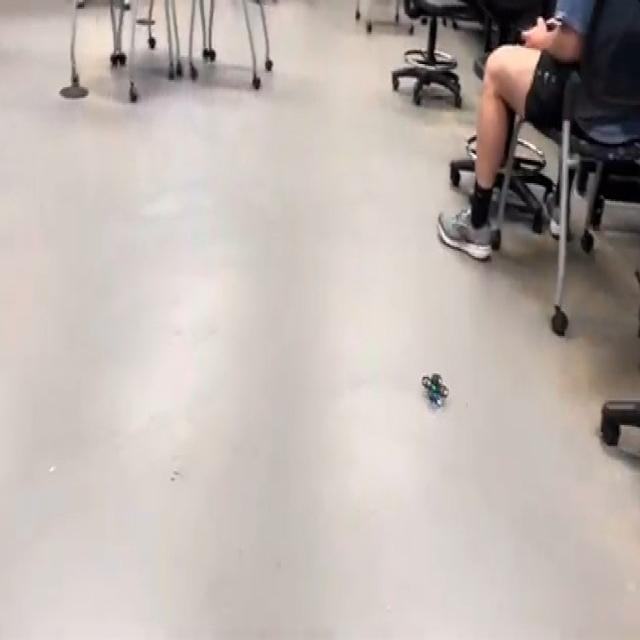drone: (414, 358, 457, 420)
